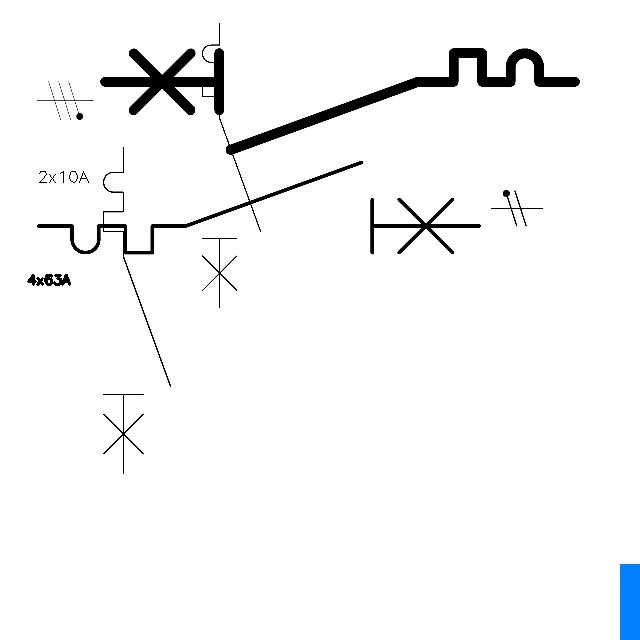interruptor_termomagnetico: (92, 41, 586, 162), (27, 151, 491, 264), (95, 139, 179, 482), (195, 16, 268, 315)
